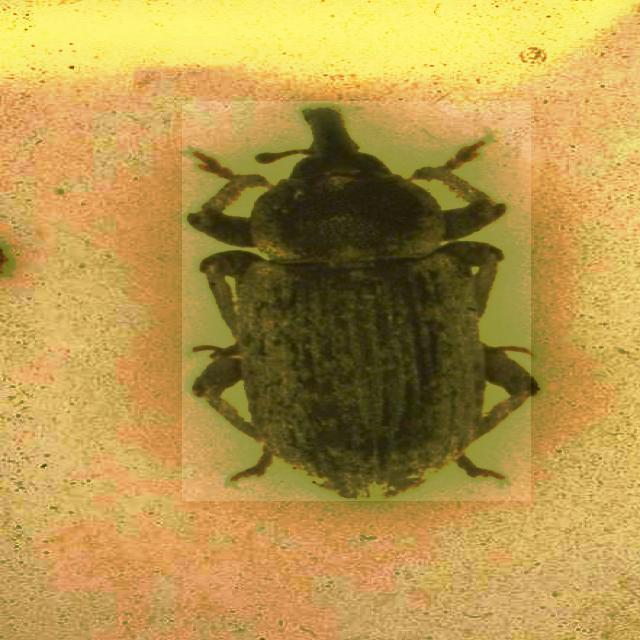rice-bug: (182, 101, 531, 501)
